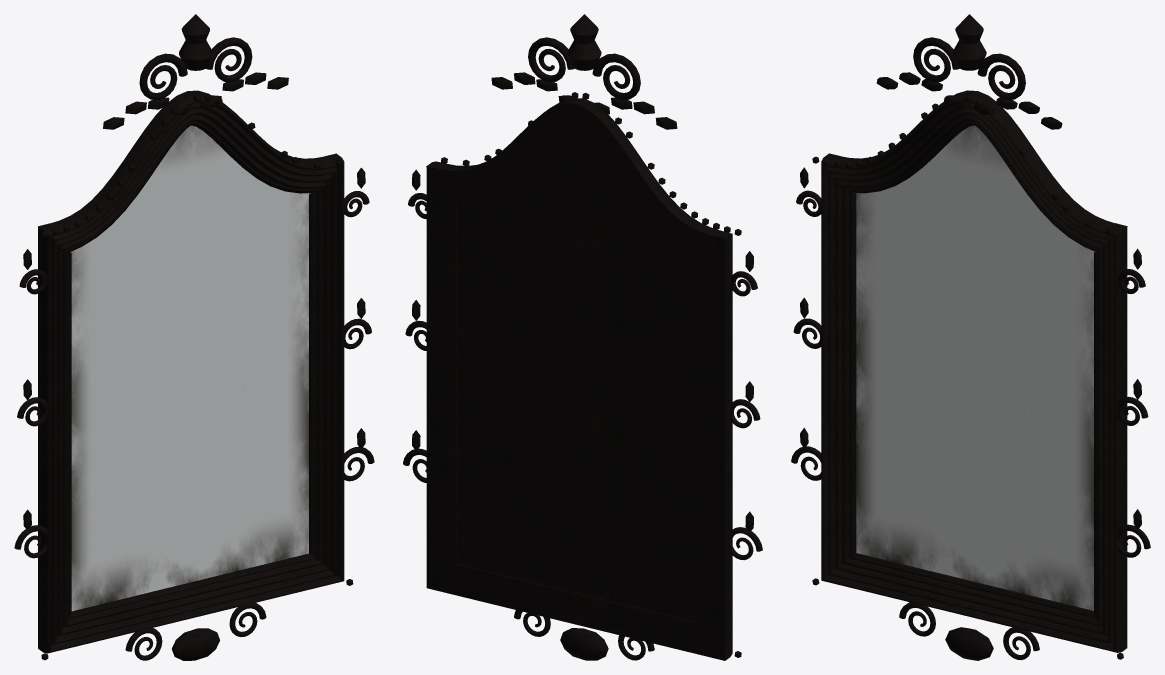
File: Mirror_Baroque.gltf
3 views of the same model, side by side, from view 1: azimuth 30°, elevation 25°; view 2: azimuth 150°, elevation 25°; view 3: azimuth 330°, elevation 25° (orthographic).
Visible parts, largest first — view 1: Mirror_Baroque_Glass, Mirror_Baroque_Frame; view 2: Mirror_Baroque_Frame; view 3: Mirror_Baroque_Glass, Mirror_Baroque_Frame.
Boxes of the visible parts, left/top/right/bottom form: Mirror_Baroque_Glass: left=70, top=125, right=310, bottom=611; Mirror_Baroque_Frame: left=14, top=14, right=374, bottom=660; Mirror_Baroque_Frame: left=403, top=14, right=762, bottom=660; Mirror_Baroque_Glass: left=855, top=125, right=1094, bottom=610; Mirror_Baroque_Frame: left=791, top=14, right=1150, bottom=660.
Size of what is drawn, in the model's own units: 1.44 by 2.48 by 0.1198.
2 materials, 2 textured.
